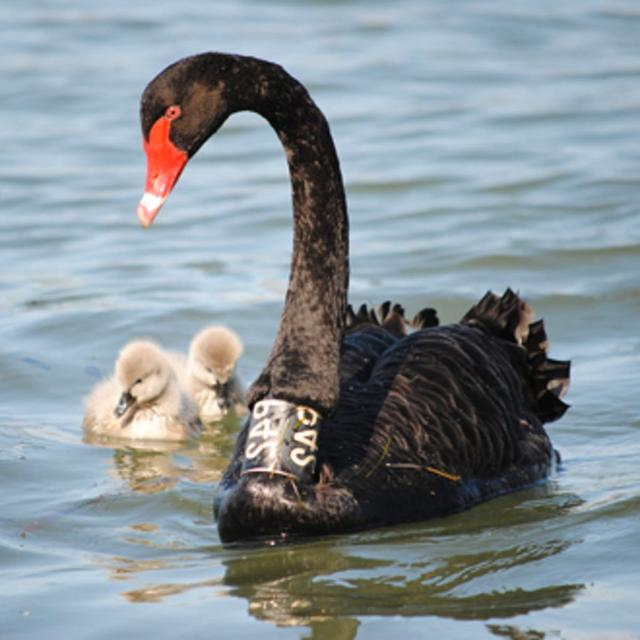swan: (138, 53, 570, 542), (84, 340, 200, 439), (180, 325, 244, 422)
